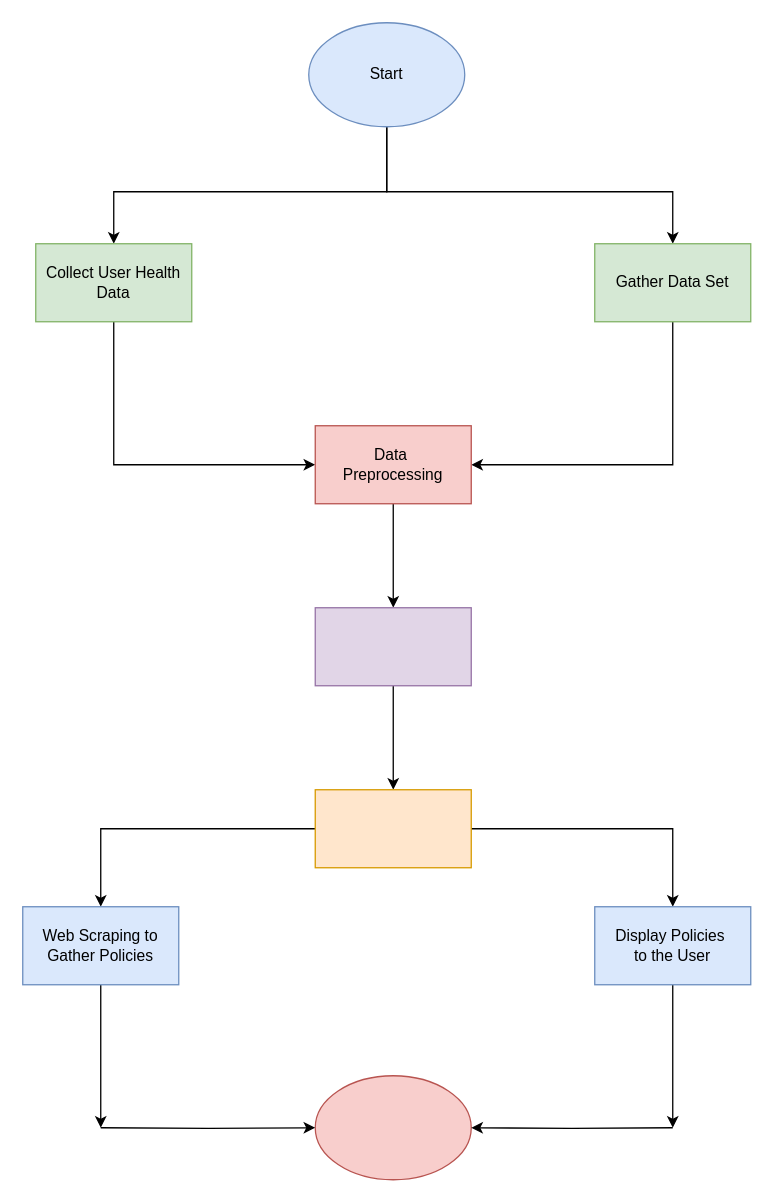
Some shapes in this 774 by 1203 pixel diagram are drawn without their labels. Here are the shapes that lost their labels. From the top down, the centre of each, then its label:
At point 392,646: "Train Machine Learning Model".
At point 392,828: "Provide Estimate Cost As Output".
At point 392,1127: "Stop".
